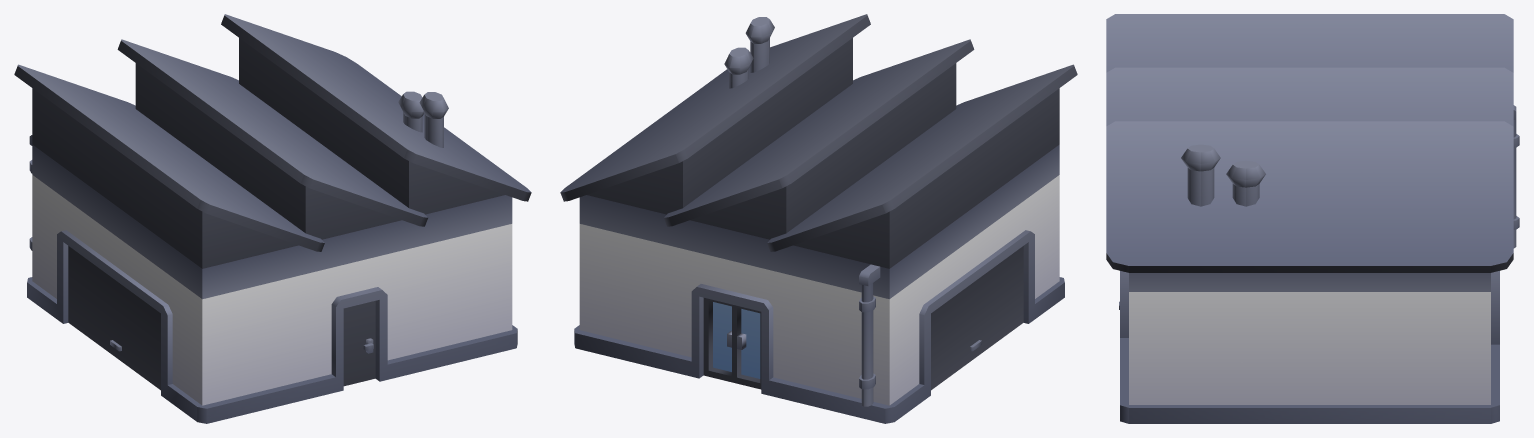
Rendered from shop.glb.
The picture shows the model from 3 angles, left to right: view 1: azimuth 30°, elevation 25°; view 2: azimuth 150°, elevation 25°; view 3: azimuth 270°, elevation 25°; orthographic projection. The views are drawn at different scales.
Parts seen in each view (by area): view 1: building-k; view 2: building-k; view 3: building-k.
Part boxes in pixels (x1,y1,x2,y2): building-k: (14,14,531,423); building-k: (560,14,1077,423); building-k: (1106,14,1519,423).
Bounding box in the file's own units: 15 × 10 × 15.
1 material, 1 textured.
